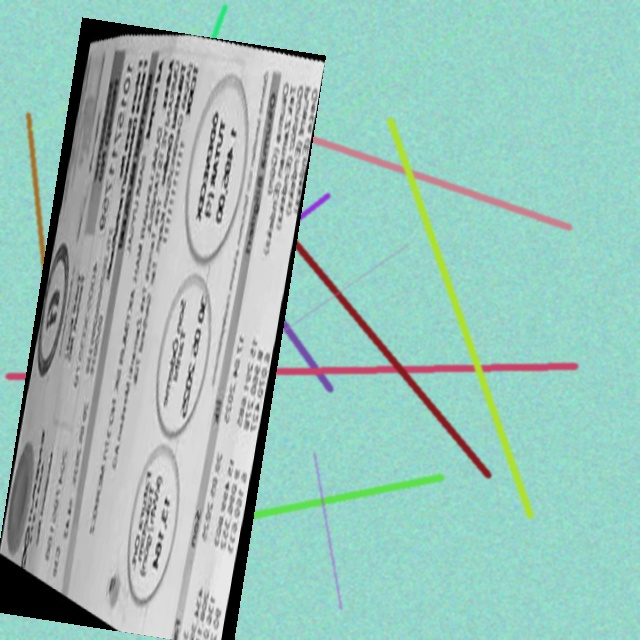electricity-bill: (0, 17, 325, 639)
